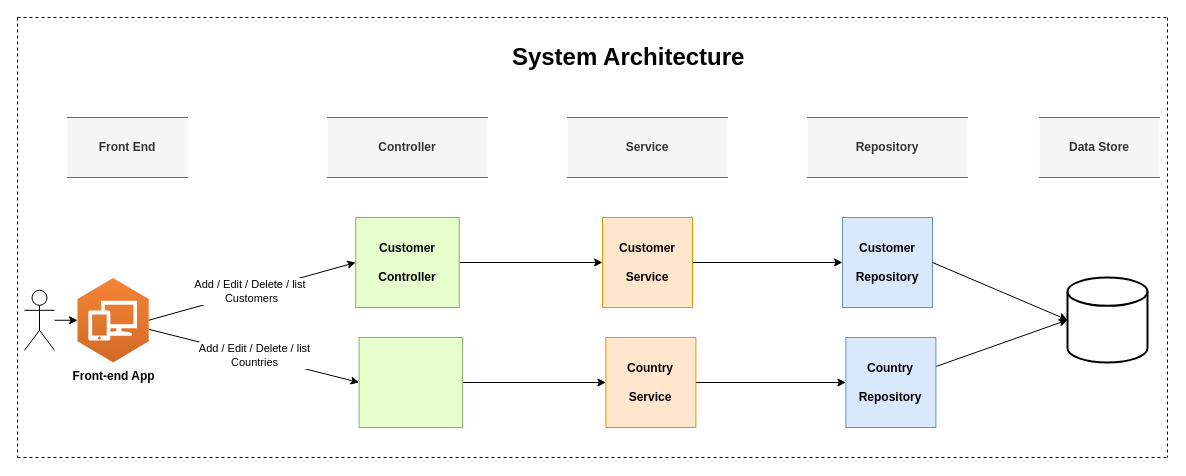
Some shapes in this 1186 by 476 pixel diagram are drawn without their labels. The centre of each missing label's shape, as x and y in pixels:
"Country Controller" belongs at pixel 410 382.
"Database" belongs at pixel 1107 319.
"User" belongs at pixel 39 319.
